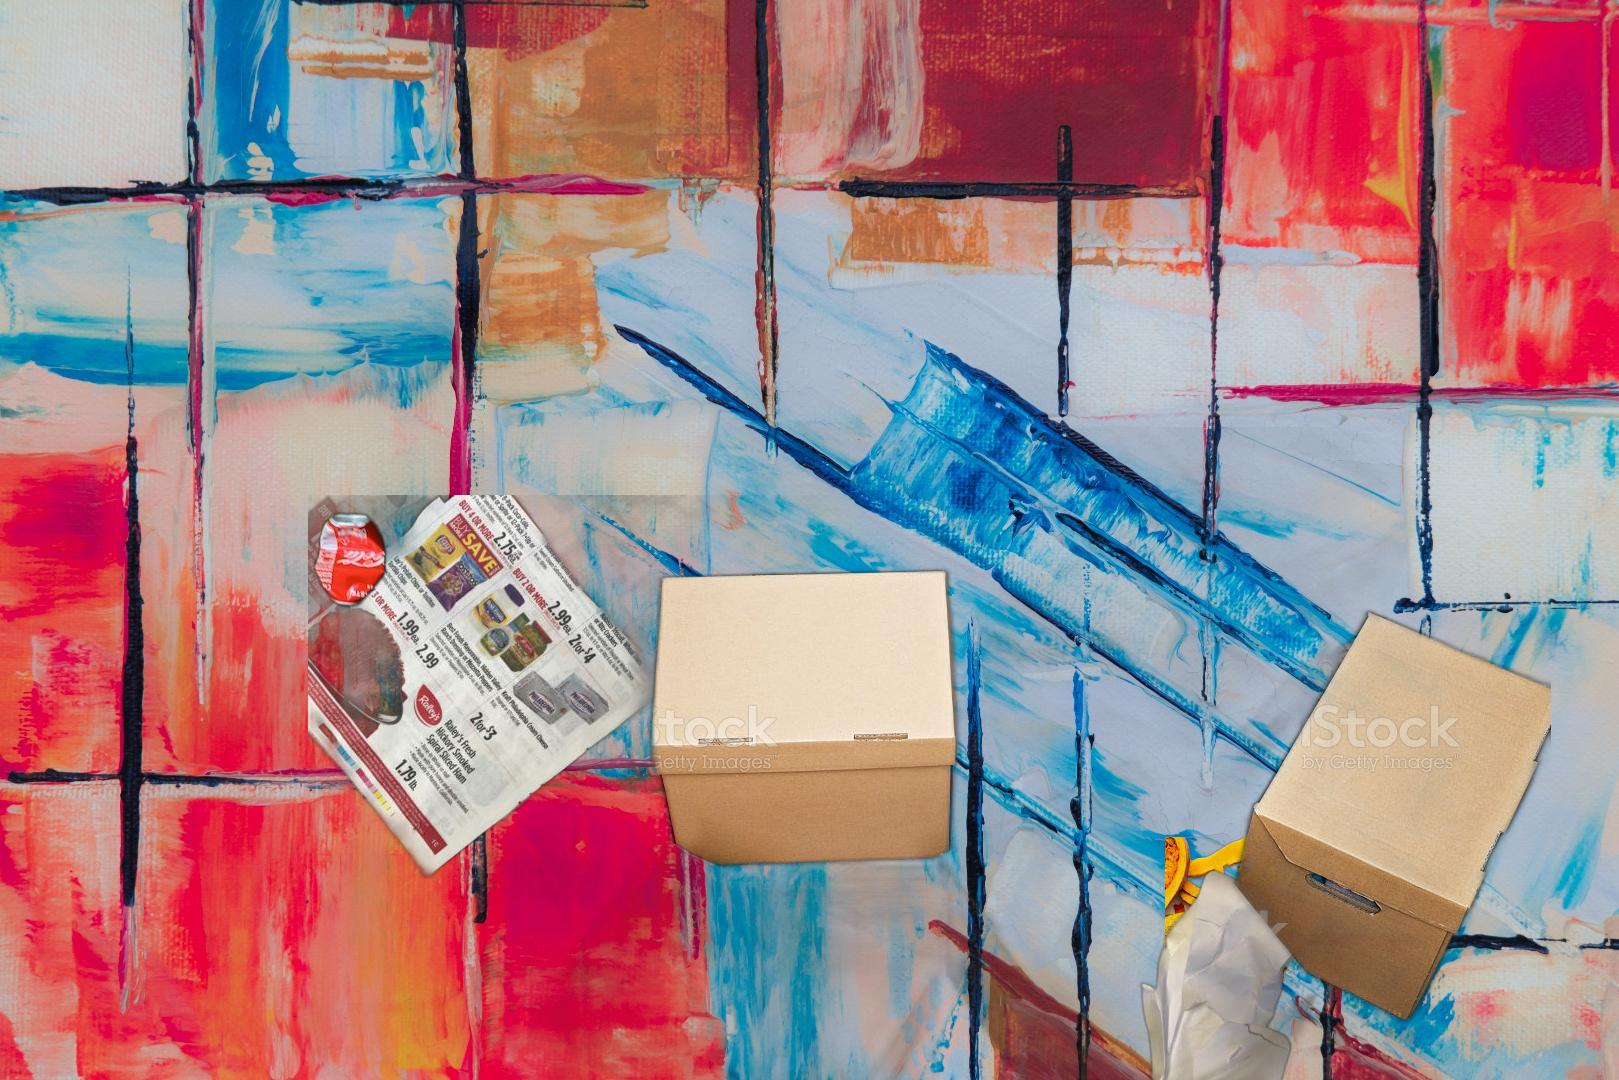biological: (1165, 837, 1300, 1005)
metal-cans: (69, 116, 391, 612)
paper: (307, 495, 820, 879), (1136, 867, 1330, 1080)
trashbox-cardboard: (527, 427, 1551, 1080)
